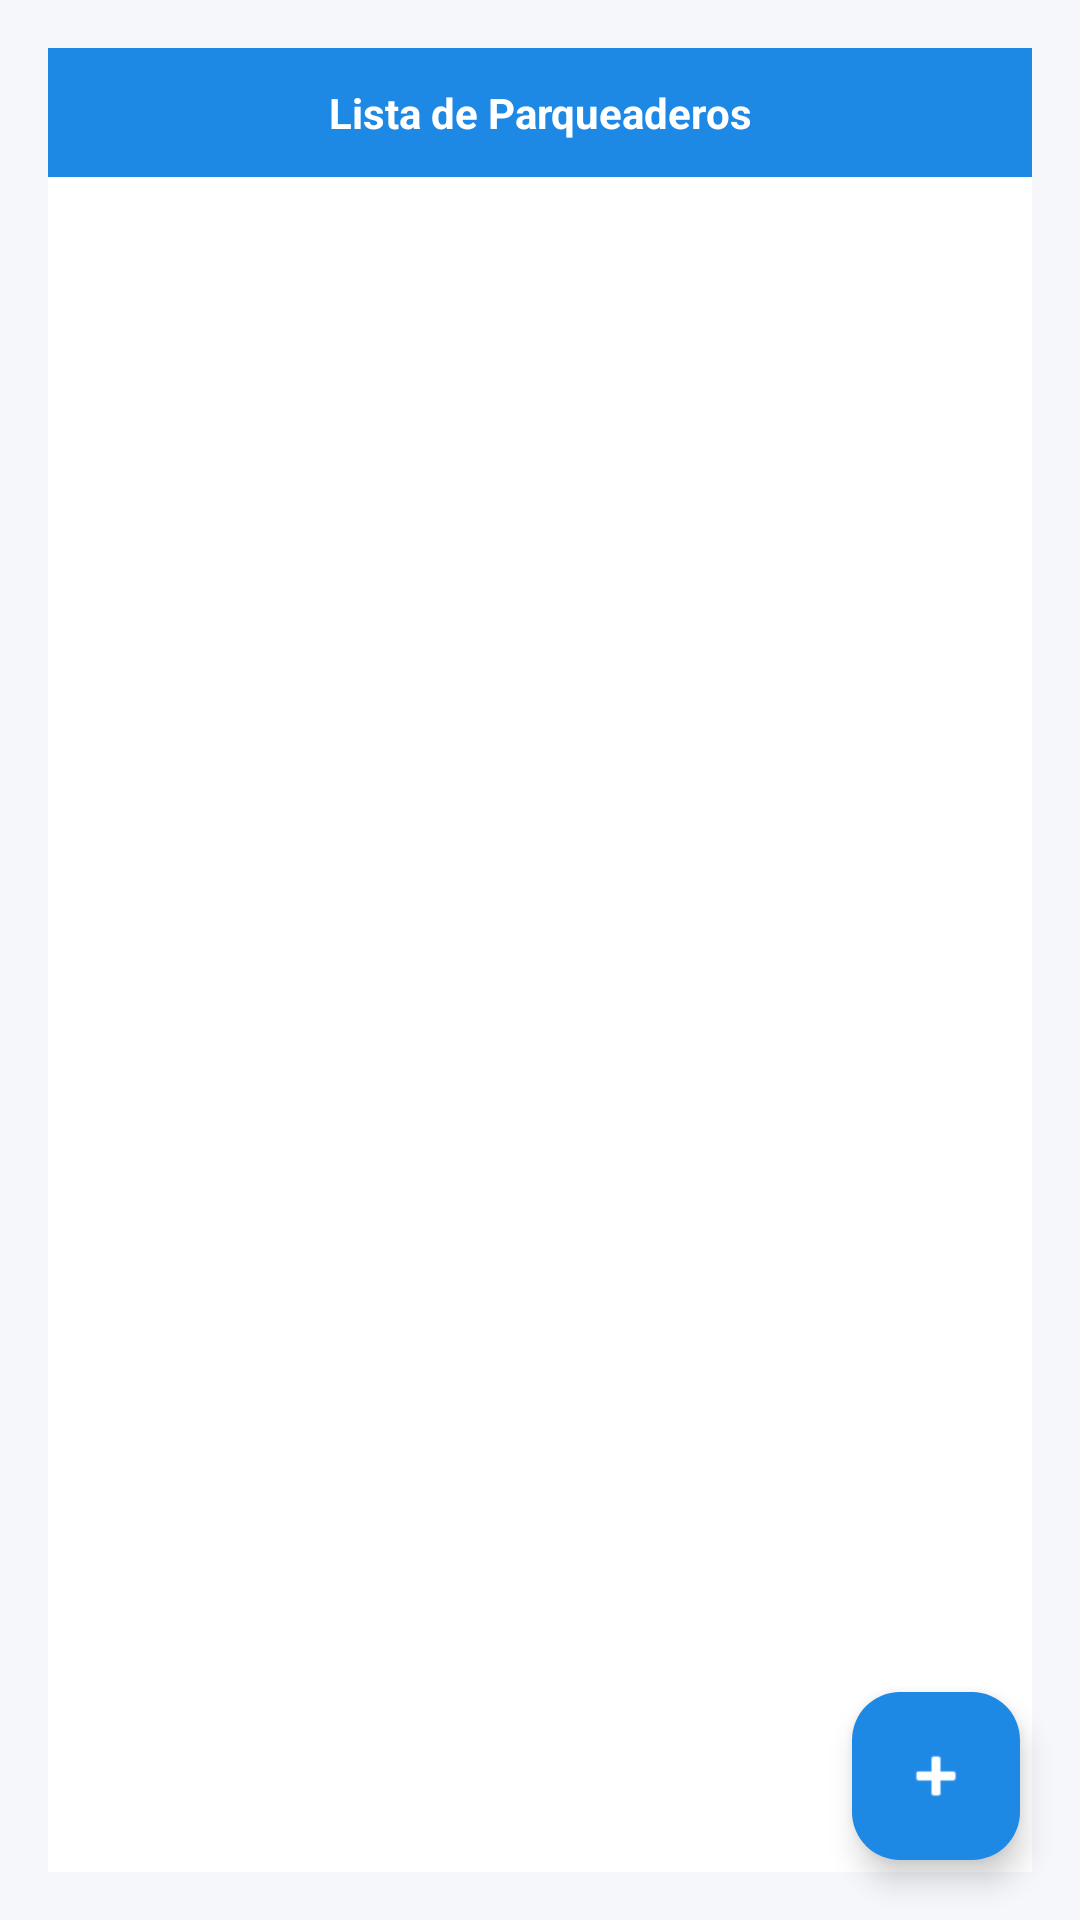

Icons on this 1080×1920 Android screen, each with the point to tap as [x,y]:
Agregar: [936,1776]
